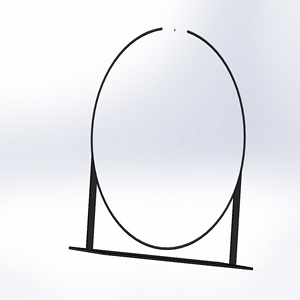circle: (64, 25, 255, 271)
